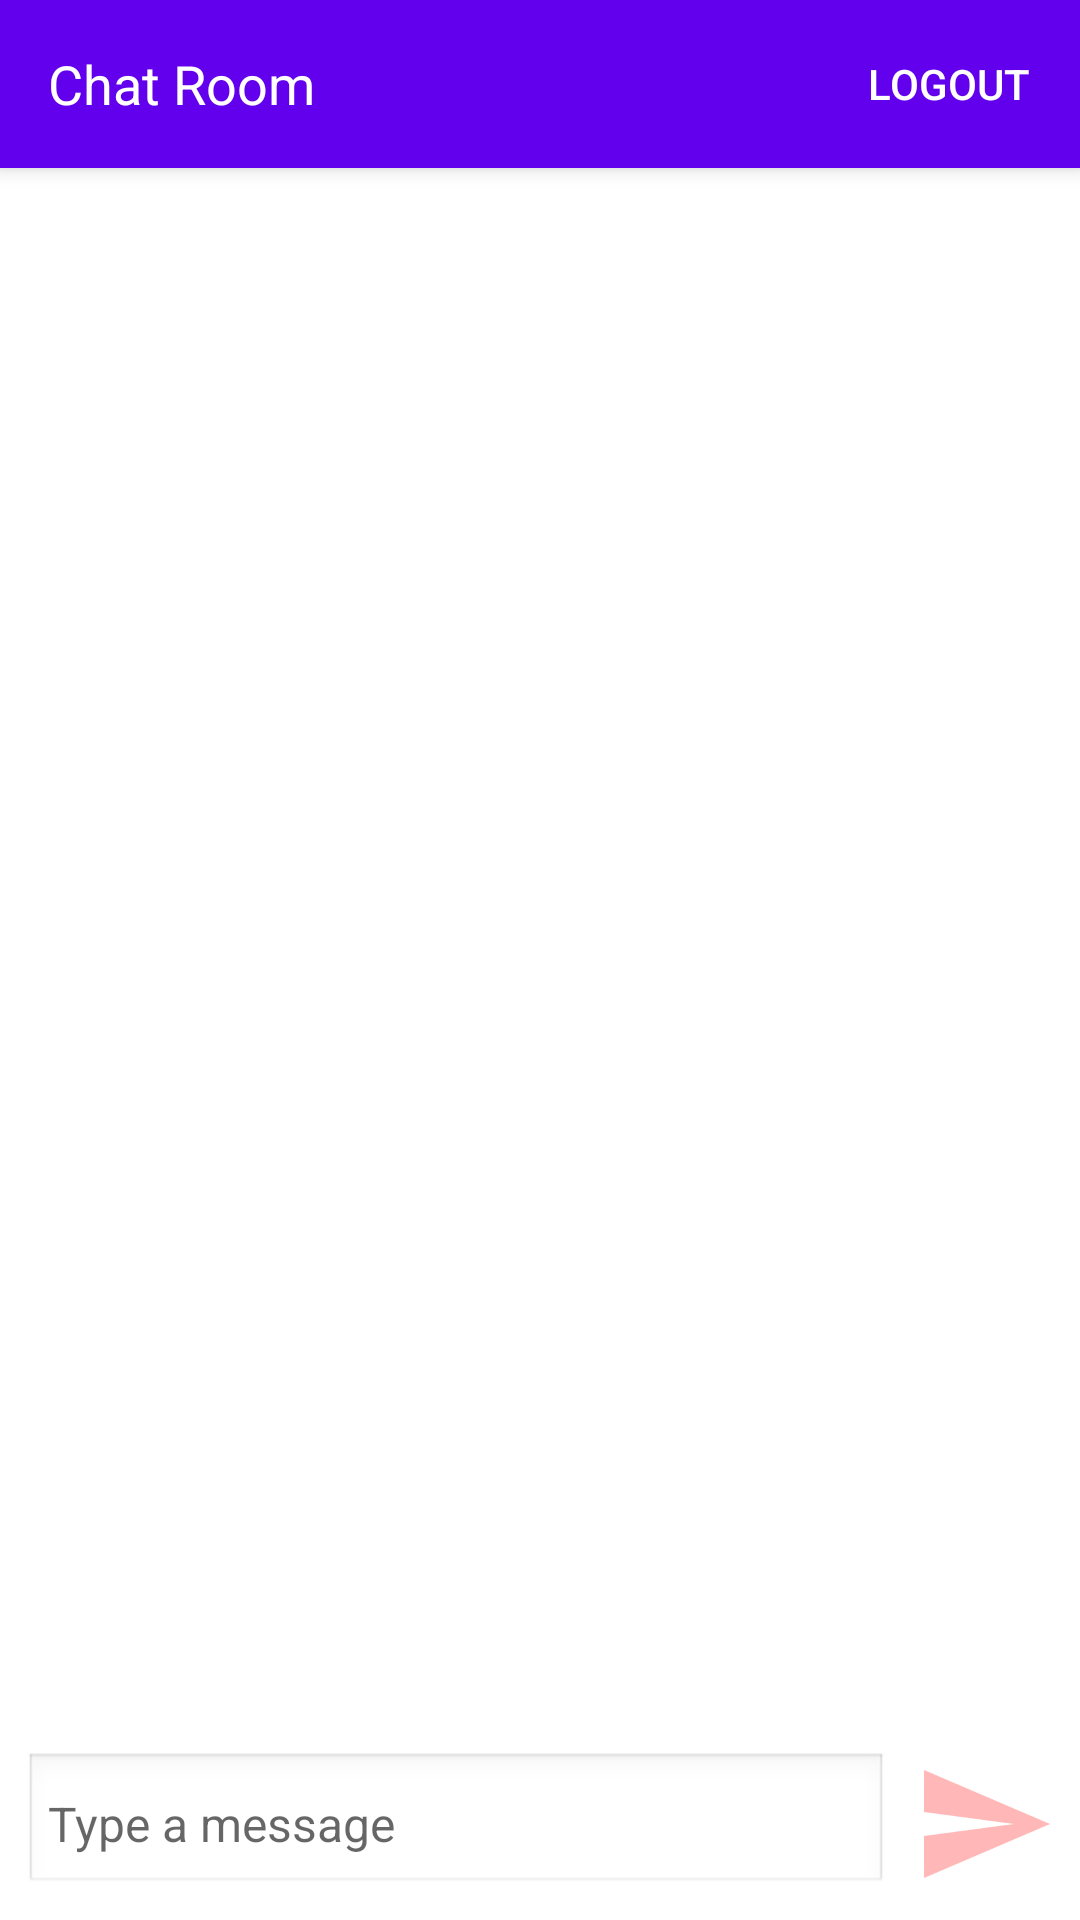

Icons on this 1080*1920 Android screen, each with the point to tap as [x,y]:
Send Message: [986,1824]
